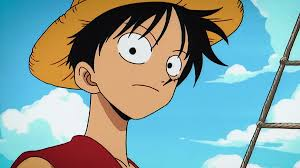luffy: (25, 1, 250, 126)
